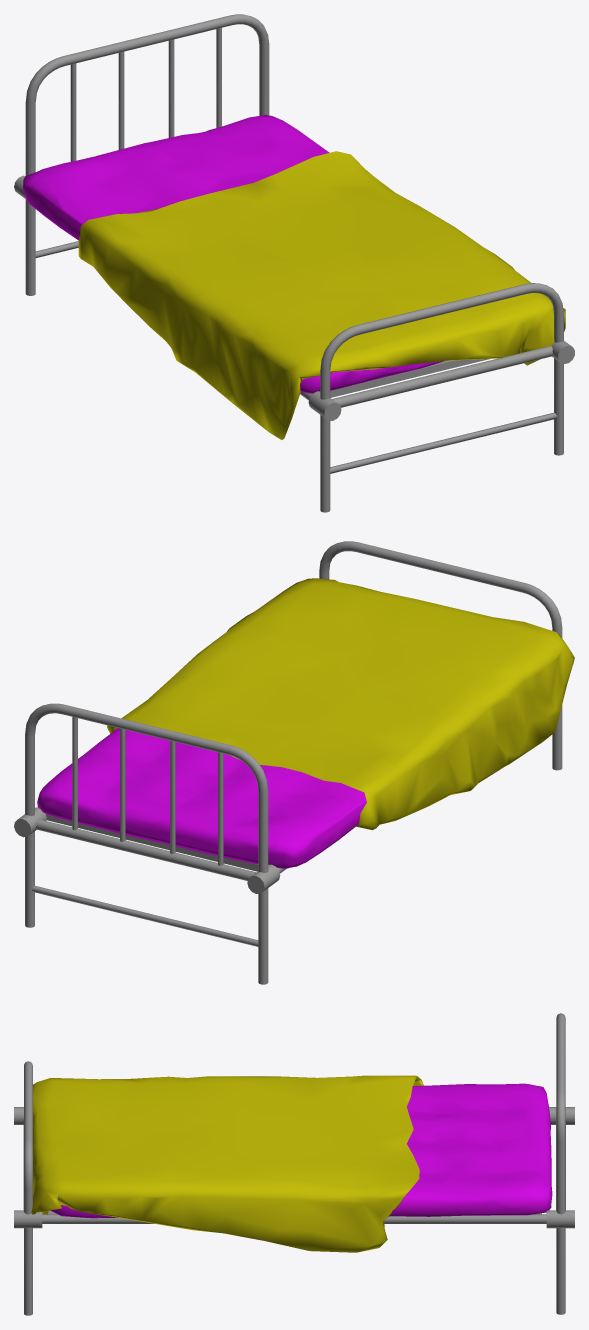
Rendered from bed_02.FBX.
The picture shows the model from 3 angles, top to bottom: view 1: azimuth 30°, elevation 25°; view 2: azimuth 150°, elevation 25°; view 3: azimuth 270°, elevation 25°; orthographic projection. The views are drawn at different scales.
Visible parts, largest first — view 1: bed_01_b; view 2: bed_01_b; view 3: bed_01_b.
Part boxes in pixels (left/top/right/bottom): bed_01_b: left=14, top=14, right=574, bottom=512; bed_01_b: left=14, top=541, right=574, bottom=984; bed_01_b: left=14, top=1013, right=574, bottom=1315.
Bounding box in the file's own units: 139 × 106 × 260.
